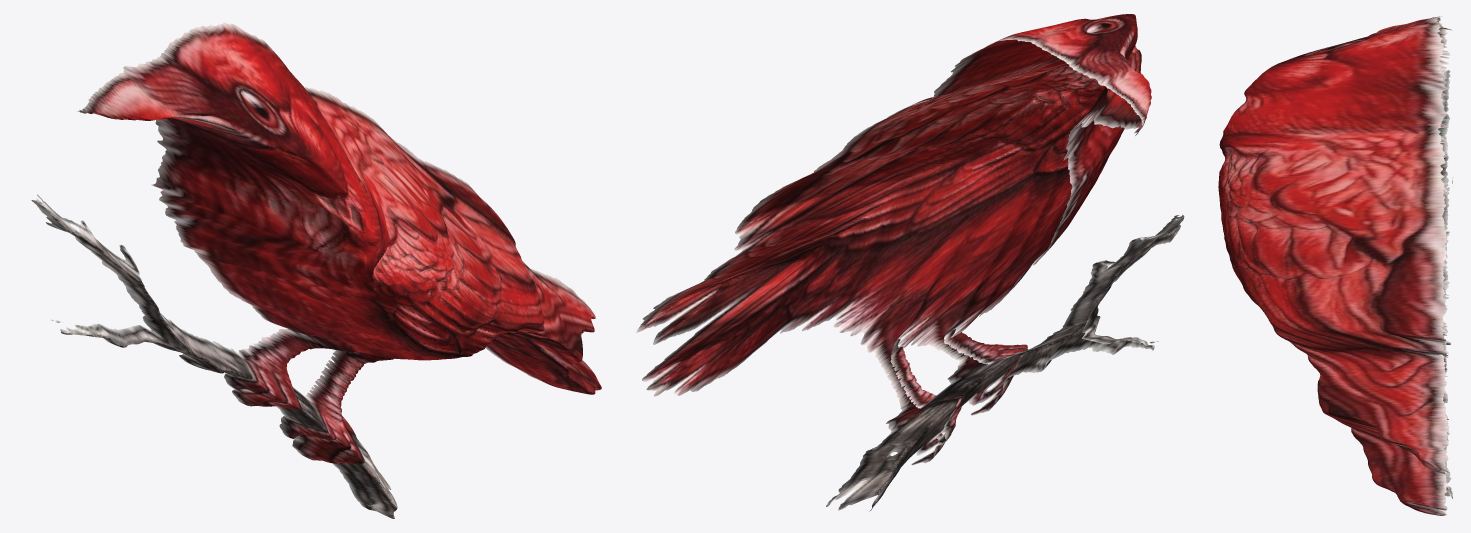
Rendered from raven_volumetric_3d.obj.
3 renders of one model, left to right at view 1: azimuth 30°, elevation 25°; view 2: azimuth 150°, elevation 25°; view 3: azimuth 270°, elevation 25°, orthographic. The views are drawn at different scales.
Parts seen in each view (by area): view 1: RedRaven3D; view 2: RedRaven3D; view 3: RedRaven3D.
Boxes of the visible parts, <box> form: RedRaven3D: <box>31,22,601,518</box>; RedRaven3D: <box>636,14,1184,511</box>; RedRaven3D: <box>1218,16,1452,515</box>.
Size of the model in its own units: 1.79 by 1.56 by 0.8391.
1 material, 1 textured.
